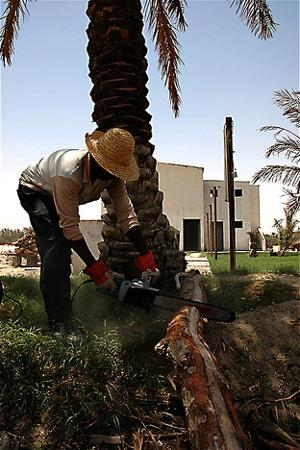person: (17, 129, 160, 344)
